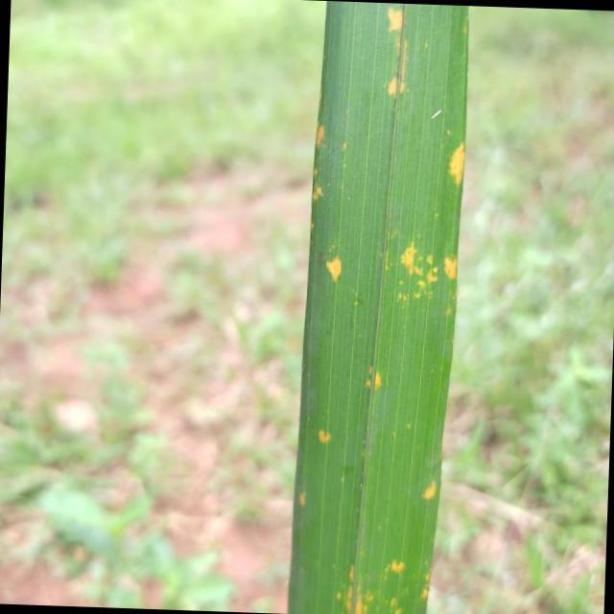Kalium: (289, 0, 472, 614)
